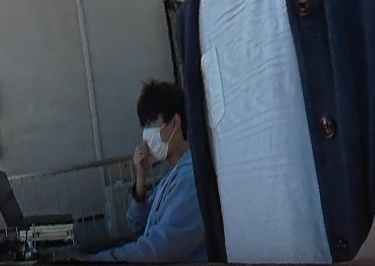person: (127, 78, 204, 266)
